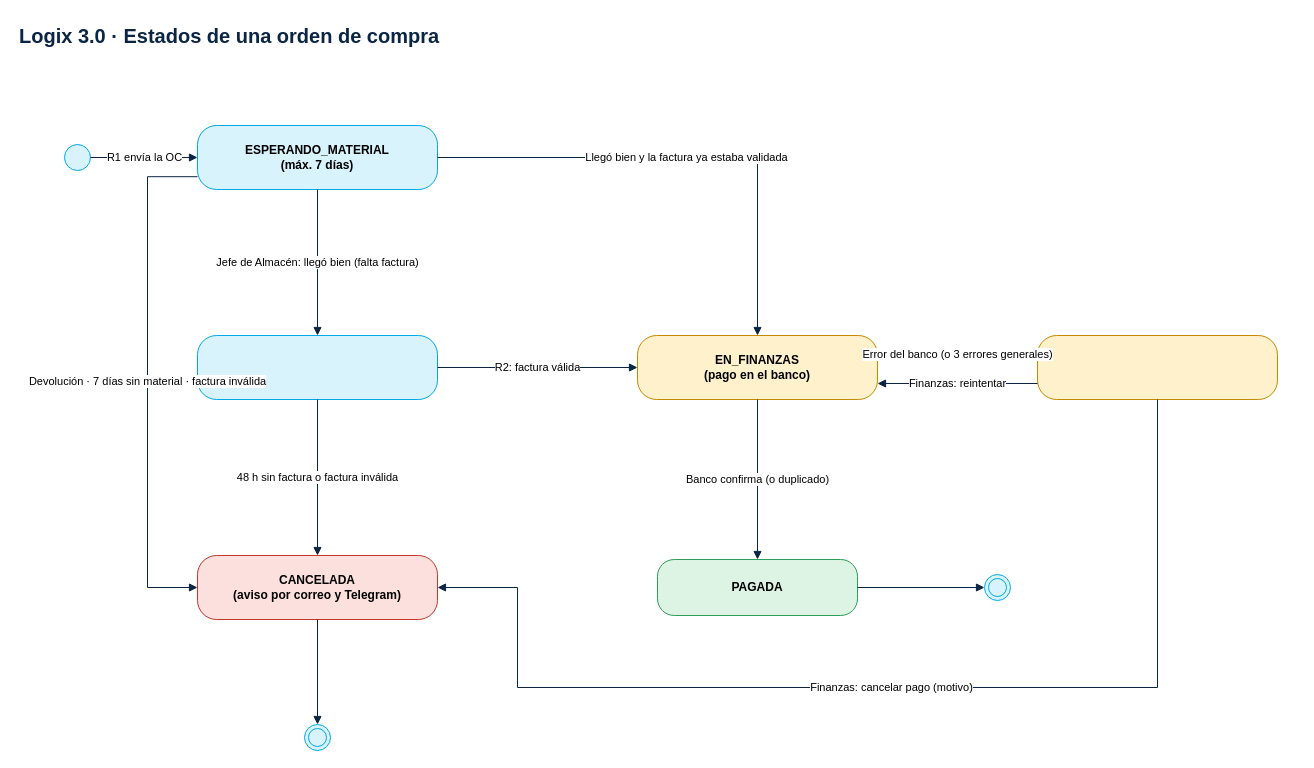
Some shapes in this 1314 by 768 pixel diagram are drawn without their labels. The shapes that lost their labels are listed below. From the top down, each one's centre as x and y in pixels, then its label:
At point 317,367: "MATERIAL_RECIBIDO (factura en 48 h)".
At point 1157,367: "PAGO_CON_ERROR (Finanzas decide)".
